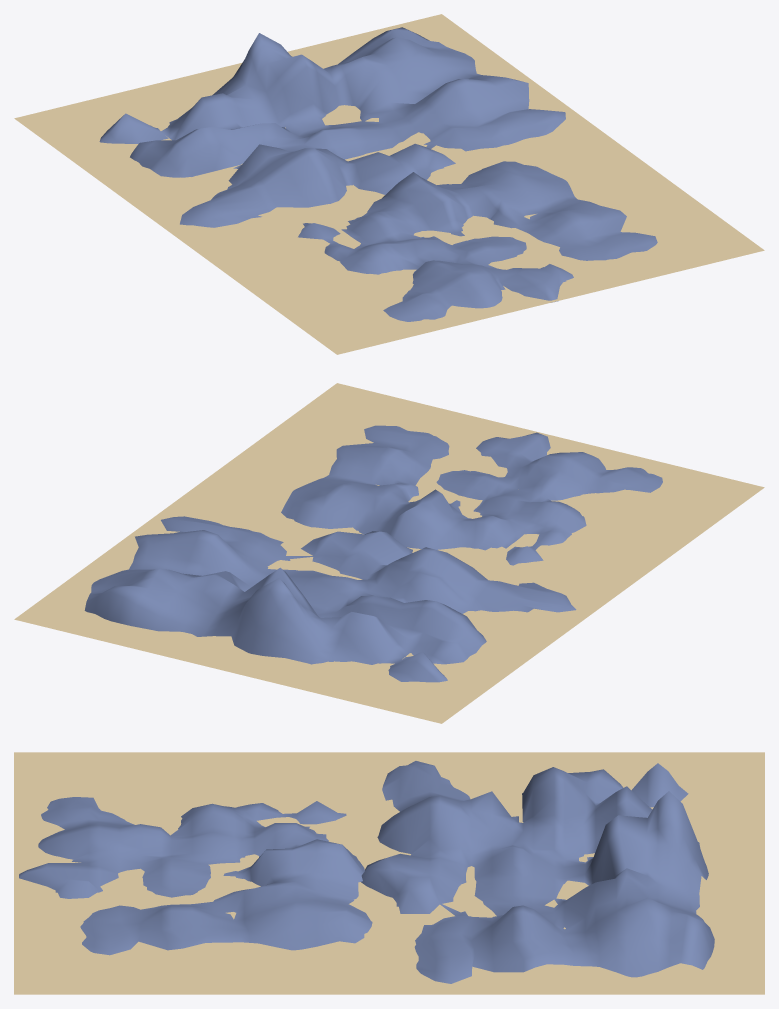
The model's file is coral and land.fbx.
3 views of the same model, one above another, from view 1: azimuth 30°, elevation 25°; view 2: azimuth 150°, elevation 25°; view 3: azimuth 270°, elevation 25° (orthographic). The views are drawn at different scales.
Parts seen in each view (by area): view 1: pPlane19, pPlane20, pPlane1, pPlane21; view 2: pPlane19, pPlane20, pPlane1, pPlane21; view 3: pPlane19, pPlane20, pPlane1, pPlane21.
Boxes of the visible parts, left/top/right/bottom form: pPlane19: left=99, top=27, right=565, bottom=227; pPlane20: left=176, top=132, right=764, bottom=354; pPlane1: left=298, top=161, right=657, bottom=321; pPlane21: left=14, top=14, right=602, bottom=236; pPlane19: left=84, top=516, right=576, bottom=682; pPlane20: left=175, top=383, right=764, bottom=605; pPlane1: left=281, top=425, right=662, bottom=565; pPlane21: left=14, top=501, right=603, bottom=723; pPlane19: left=361, top=761, right=714, bottom=983; pPlane20: left=14, top=752, right=389, bottom=994; pPlane1: left=19, top=797, right=372, bottom=955; pPlane21: left=389, top=752, right=764, bottom=994.
Size of the model in its own units: 371 by 72.36 by 485.
